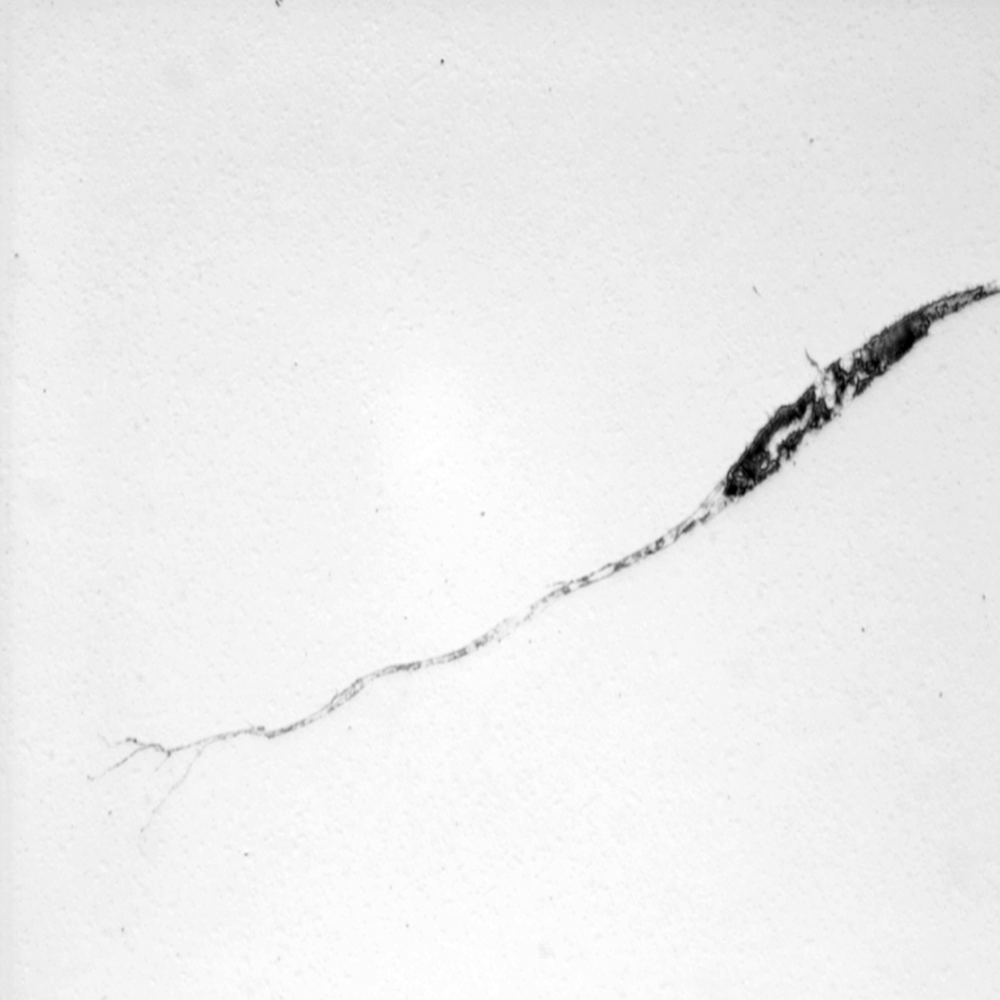crack: (81, 271, 1000, 857)
